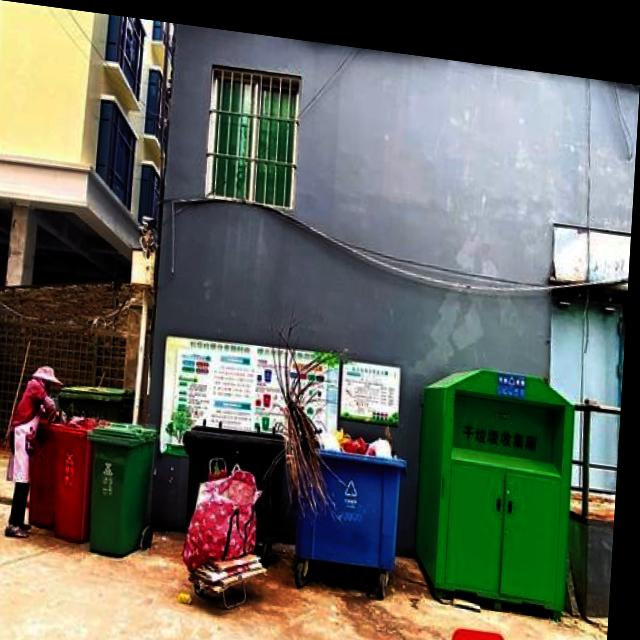garbage_bin: (183, 411, 292, 529), (87, 413, 162, 553), (32, 405, 100, 538)
overflow: (282, 384, 414, 555)
